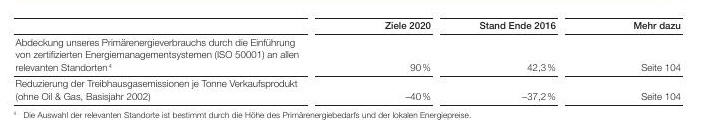table: (0, 0, 702, 120)
